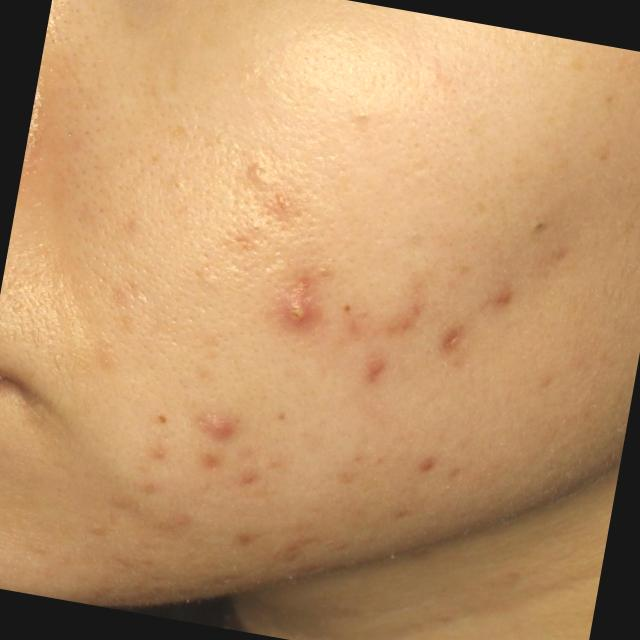blackhead: (158, 414, 166, 422), (536, 222, 542, 228)
nodule: (198, 414, 236, 442)
